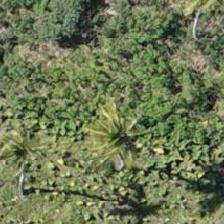coconut_tree: (68, 85, 158, 175)
